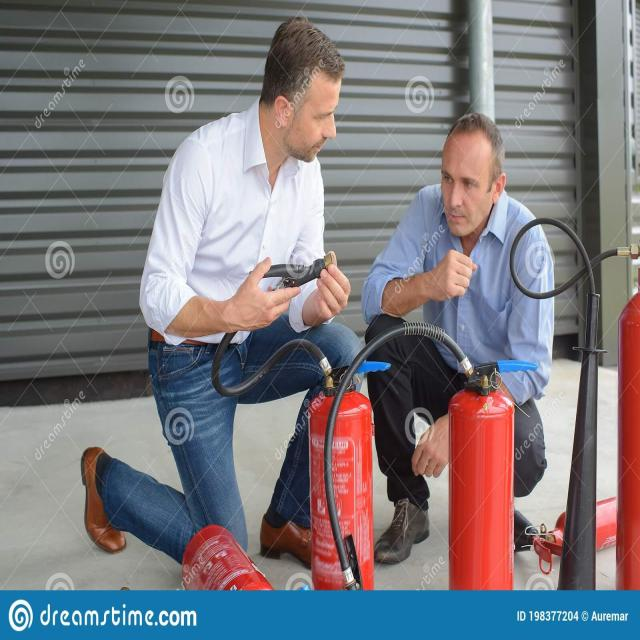fire_extinguisher: (213, 250, 380, 598), (320, 315, 521, 592), (504, 215, 640, 595), (171, 523, 282, 606)
